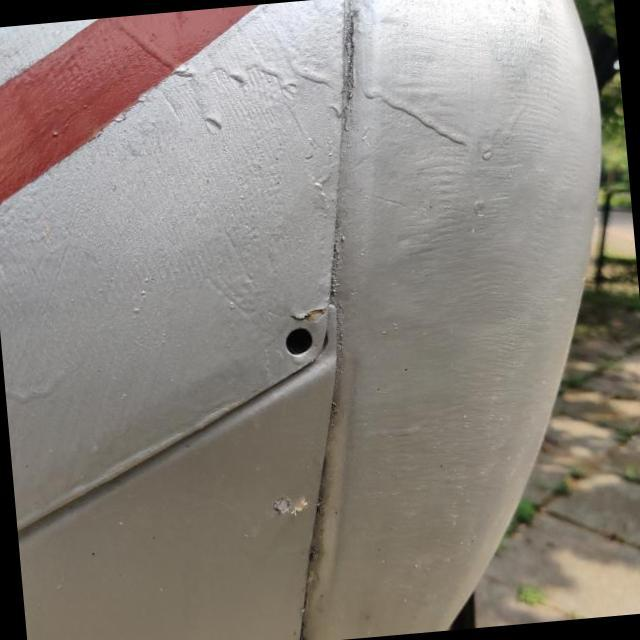Fastener Damage: (236, 290, 350, 396)
